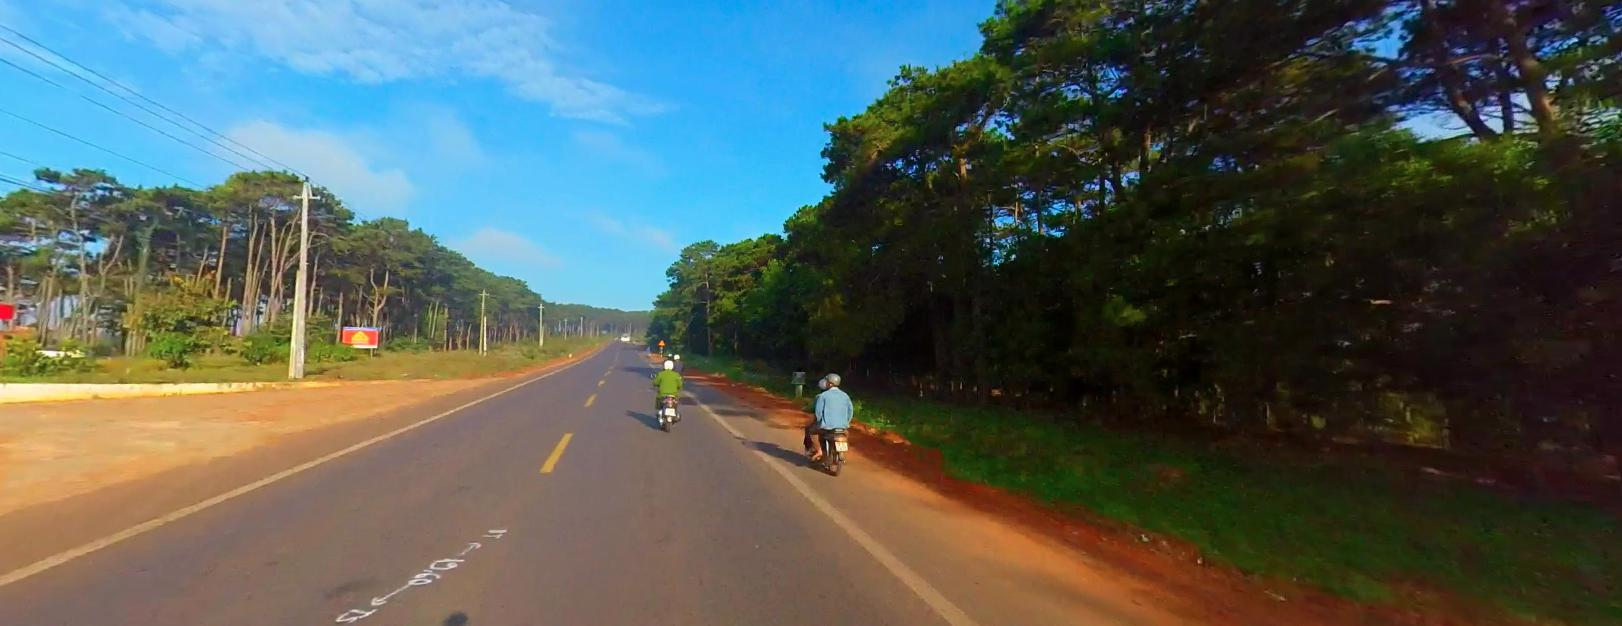Nguy hiem: (657, 337, 665, 344)
